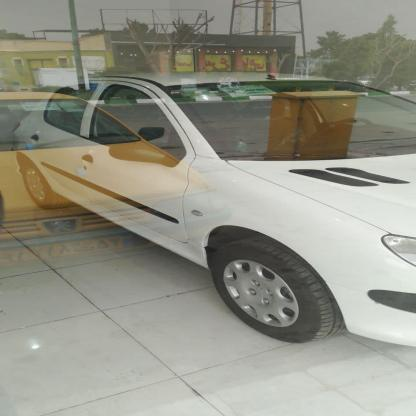Car: (0, 64, 416, 338)
